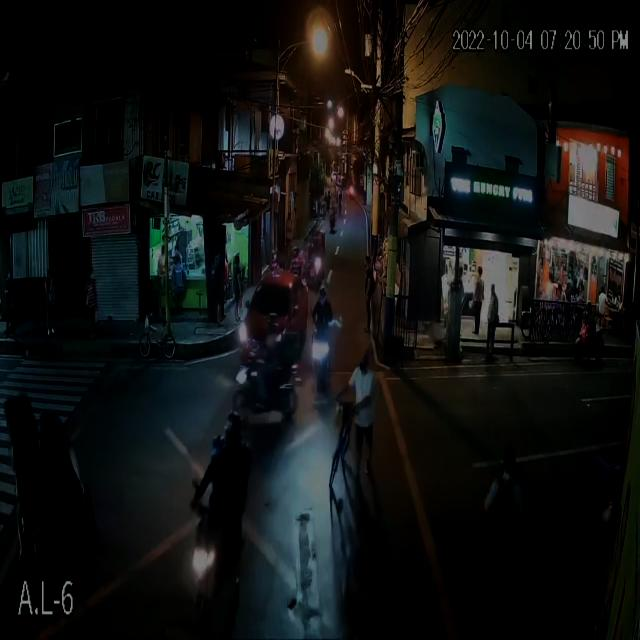Full-Faced: (224, 412, 241, 446), (315, 280, 332, 309)
